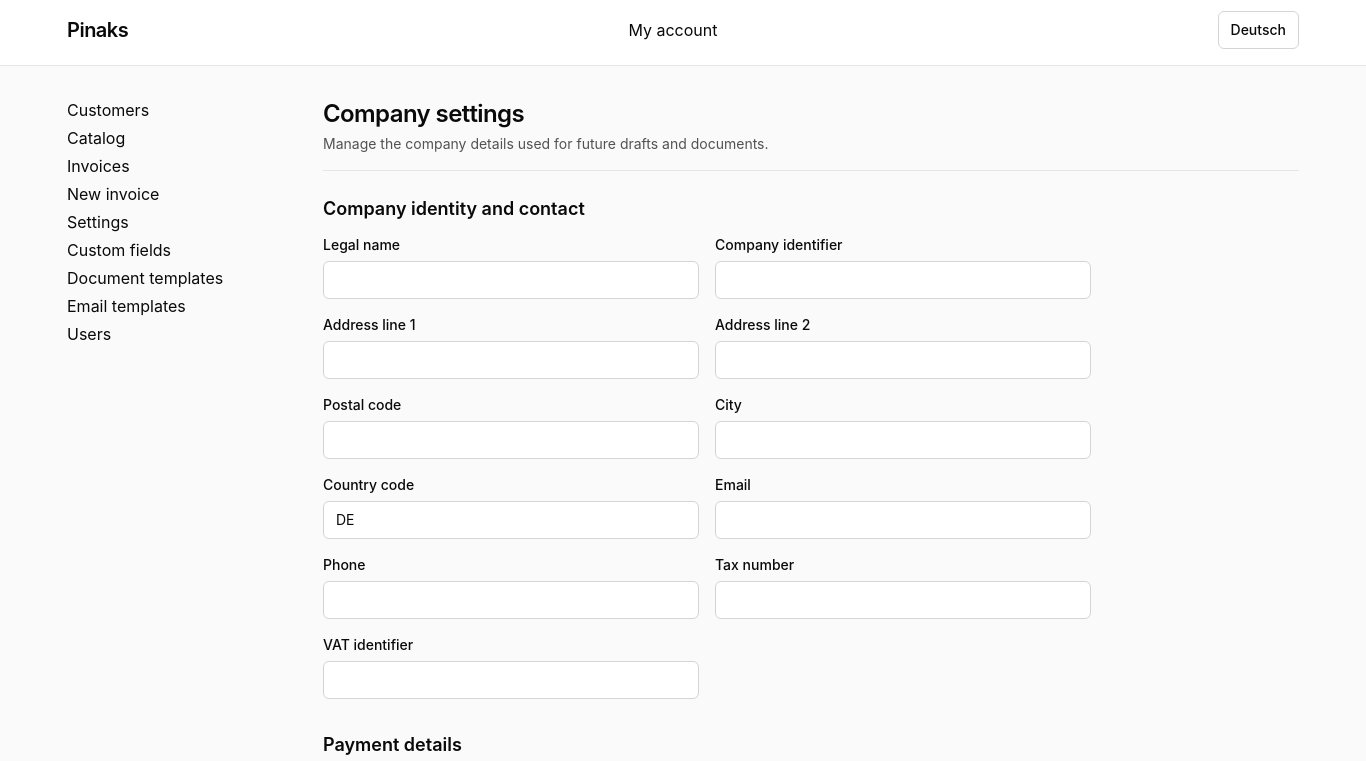
Test: application shell › maps backend field errors onto the company form
Clear the field labelled "Legal name" at x=511, y=280, box [323,261,699,299]
(page scrolled)
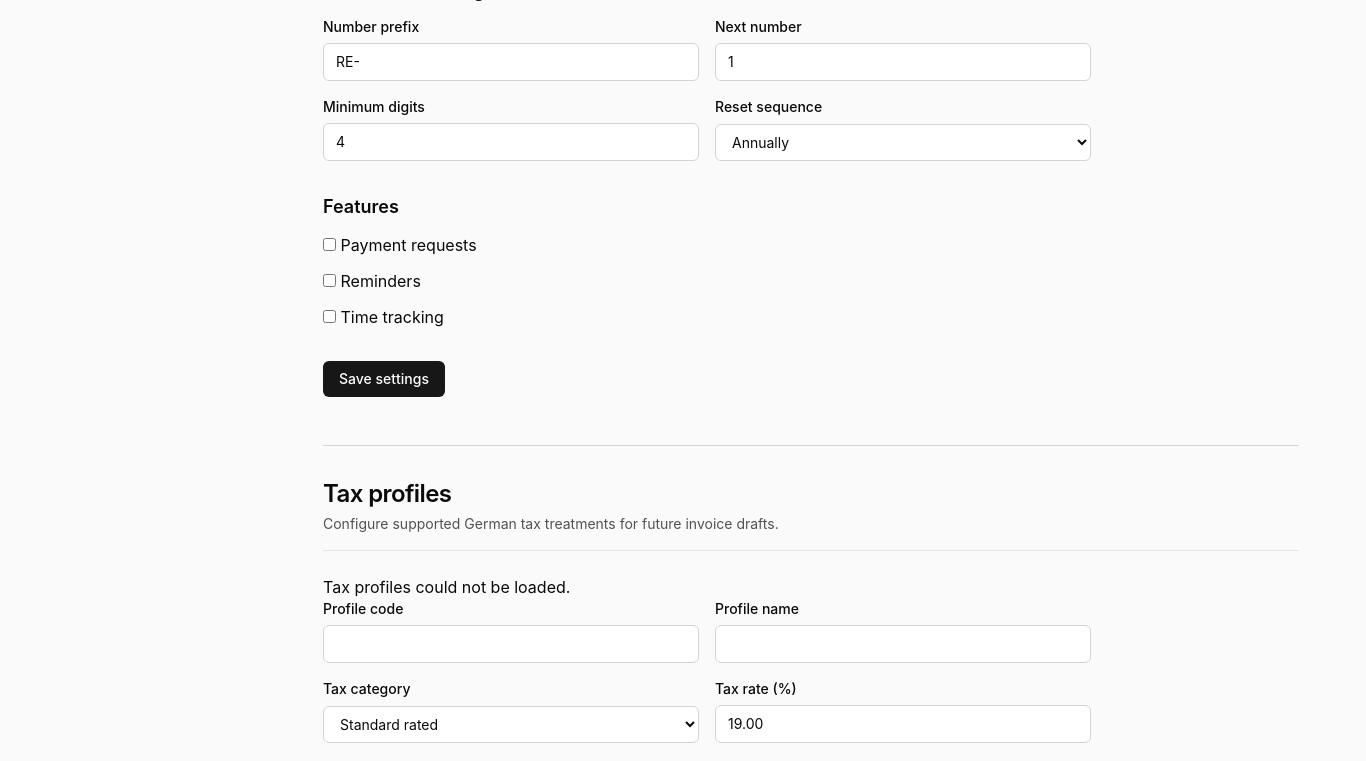
Click the button "Save settings".
click(384, 379)  # box [323,361,445,397]
(page scrolled)
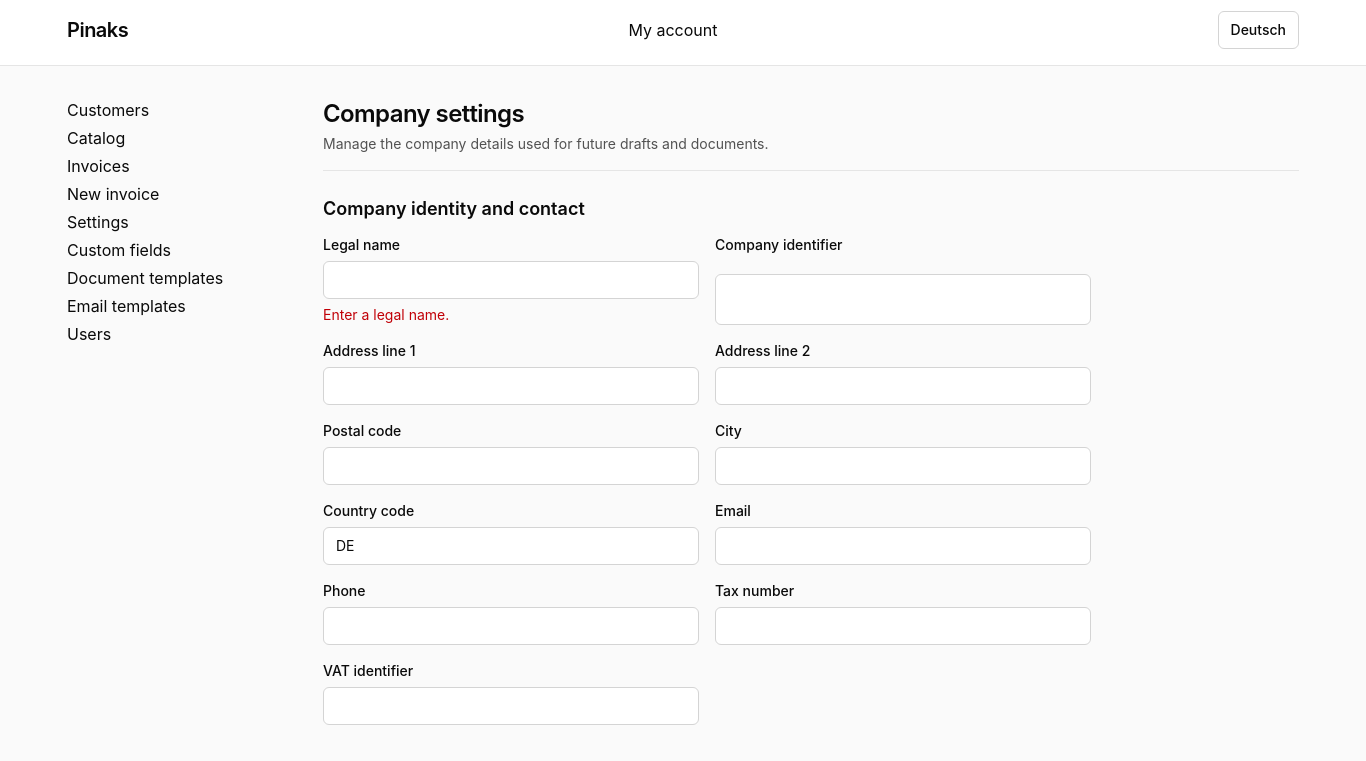
Now the text "Enter a legal name." is shown, box [323,306,449,323]
